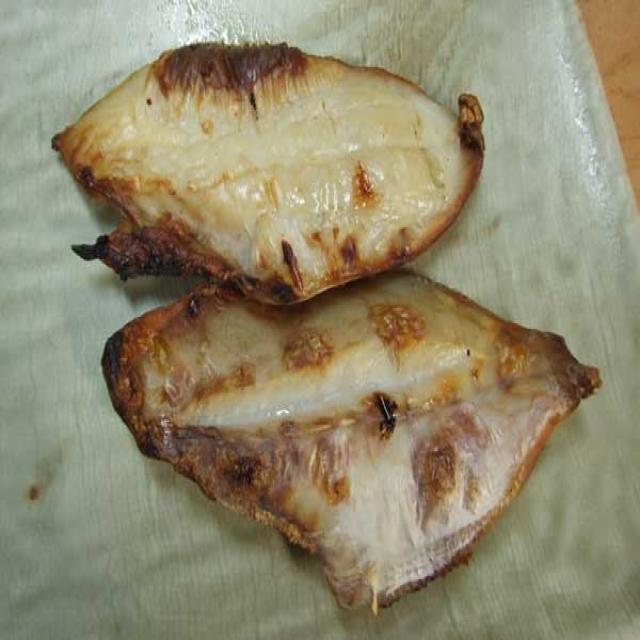熟制海鲜: (46, 37, 603, 617)
